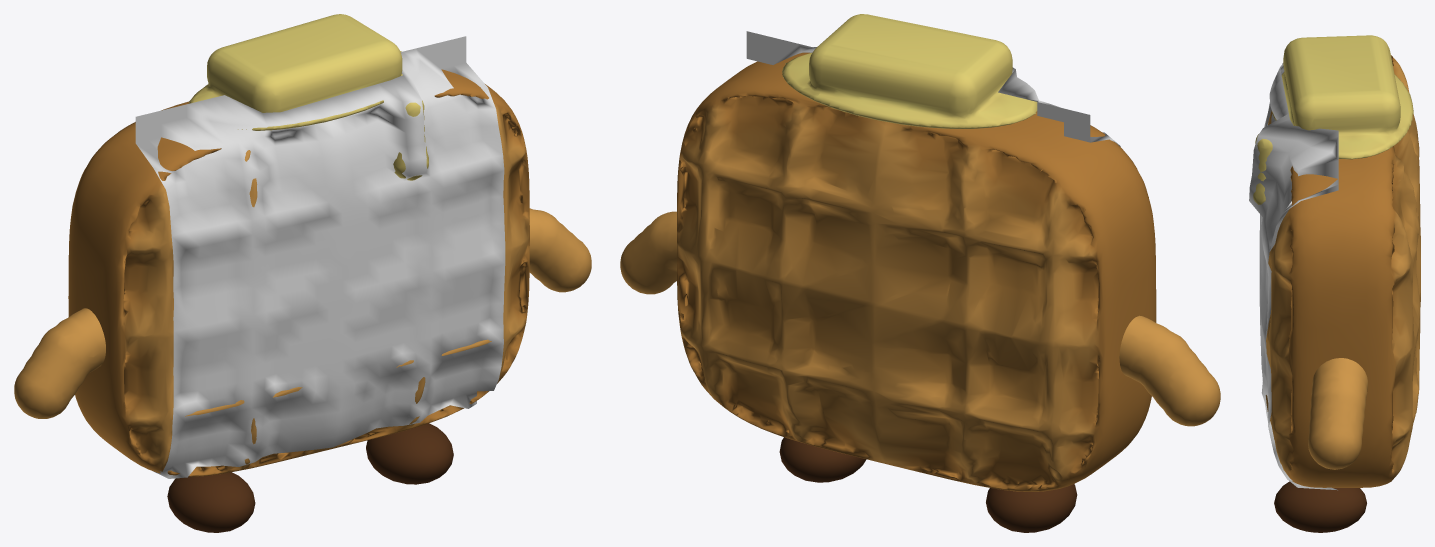
The model's file is folk2_waffle.glb.
3 views of the same model, side by side, from view 1: azimuth 30°, elevation 25°; view 2: azimuth 150°, elevation 25°; view 3: azimuth 270°, elevation 25° (orthographic). The views are drawn at different scales.
Visible parts, largest first — view 1: waffle_face, waffle_body, waffle_arm_l, waffle_foot_l, waffle_foot_r, waffle_arm_r; view 2: waffle_body, waffle_arm_l, waffle_arm_r, waffle_face, waffle_foot_l, waffle_foot_r; view 3: waffle_body, waffle_face, waffle_arm_r, waffle_foot_r.
Part boxes in pixels (<box>): waffle_face: <box>135,36,505,478</box>; waffle_body: <box>68,14,529,476</box>; waffle_arm_l: <box>14,308,105,418</box>; waffle_foot_l: <box>167,472,255,532</box>; waffle_foot_r: <box>366,423,453,484</box>; waffle_arm_r: <box>529,208,591,292</box>; waffle_body: <box>677,14,1156,491</box>; waffle_arm_l: <box>1119,315,1220,426</box>; waffle_arm_r: <box>620,211,676,294</box>; waffle_face: <box>746,31,1120,146</box>; waffle_foot_l: <box>986,484,1077,532</box>; waffle_foot_r: <box>779,437,866,482</box>; waffle_body: <box>1253,35,1420,487</box>; waffle_face: <box>1249,63,1338,490</box>; waffle_arm_r: <box>1308,358,1367,469</box>; waffle_foot_r: <box>1274,481,1366,532</box>.
Size of the model in its own units: 1.18 by 0.8835 by 0.3276.
